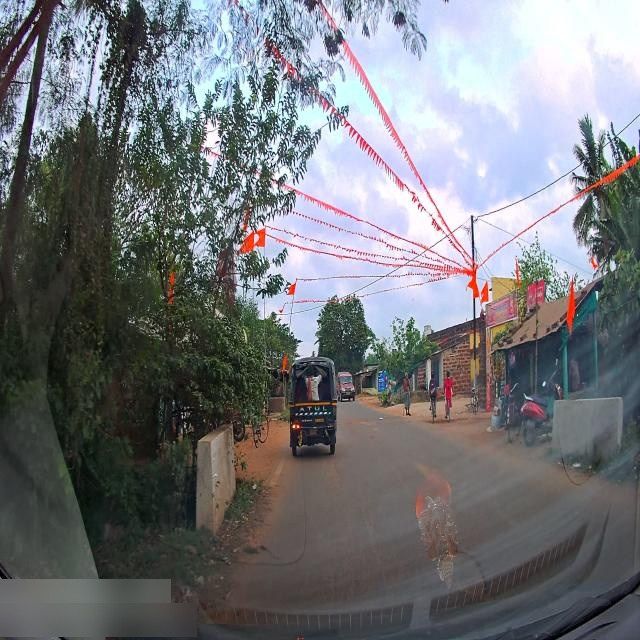pothole: (458, 550, 485, 584)
